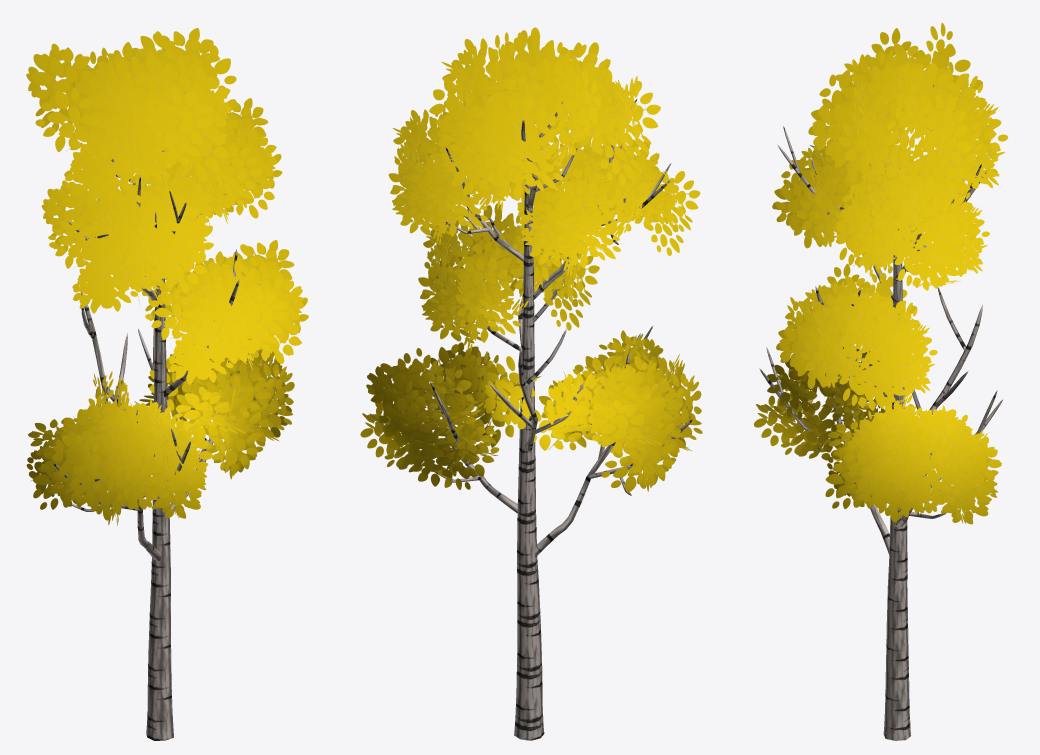
File: eucalipto.glb
The picture shows the model from 3 angles, left to right: view 1: azimuth 30°, elevation 25°; view 2: azimuth 150°, elevation 25°; view 3: azimuth 270°, elevation 25°; orthographic projection. The views are drawn at different scales.
Parts seen in each view (by area): view 1: eucalipto; view 2: eucalipto; view 3: eucalipto.
Boxes of the visible parts, box(x1,y1,x2,y2) form: eucalipto: box(26, 28, 308, 740); eucalipto: box(360, 27, 702, 740); eucalipto: box(754, 22, 1008, 740).
Size of the model in its own units: 6.63 by 15 by 5.57.
2 materials, 2 textured.
